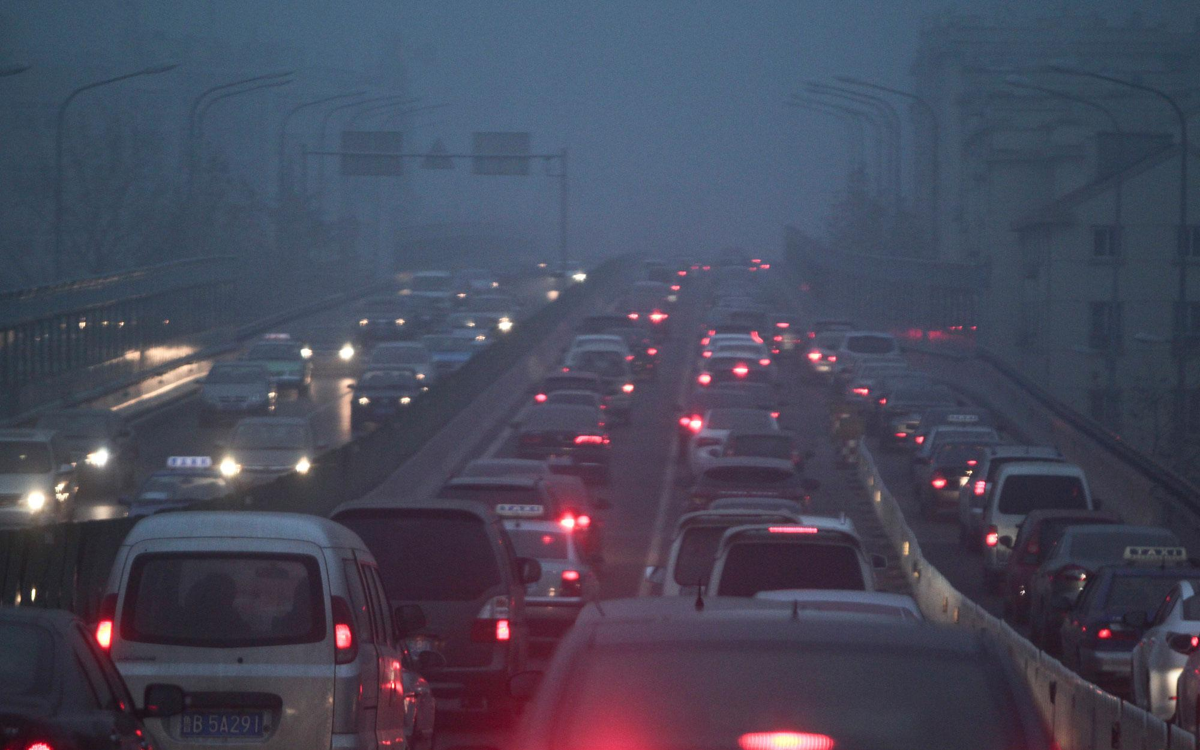car: (505, 597, 1055, 750), (90, 510, 429, 750), (511, 574, 941, 750), (318, 502, 545, 734), (675, 525, 893, 674), (244, 598, 447, 750), (643, 507, 834, 667), (427, 501, 609, 657), (1, 607, 190, 750), (1020, 525, 1198, 668), (731, 587, 935, 706), (1051, 545, 1200, 696), (428, 475, 576, 597), (672, 457, 825, 575), (687, 496, 820, 627), (996, 508, 1133, 630), (981, 462, 1104, 594), (481, 475, 617, 584), (957, 442, 1080, 553), (113, 455, 242, 548), (1119, 577, 1200, 724), (447, 459, 567, 557), (213, 417, 330, 507), (903, 412, 1020, 498), (27, 406, 136, 495), (507, 402, 618, 489), (1, 425, 75, 554), (676, 385, 780, 472), (705, 427, 816, 504), (915, 436, 1019, 518), (904, 403, 1001, 486), (685, 406, 782, 485), (555, 346, 639, 428), (191, 360, 283, 426), (527, 370, 619, 435), (874, 385, 967, 449), (862, 370, 950, 436), (347, 367, 433, 434), (559, 333, 636, 402), (238, 330, 315, 396), (825, 334, 908, 393), (1164, 614, 1200, 750), (531, 388, 614, 443), (697, 351, 779, 406), (844, 364, 929, 416), (358, 340, 440, 393), (567, 314, 648, 366), (838, 354, 914, 408), (597, 325, 661, 386), (703, 339, 774, 392), (414, 326, 479, 383), (798, 332, 866, 386), (703, 333, 771, 383), (349, 297, 421, 344), (452, 292, 522, 340), (799, 318, 866, 366), (300, 323, 363, 374), (754, 311, 815, 361), (700, 319, 768, 362), (406, 270, 459, 317), (460, 268, 501, 297)
